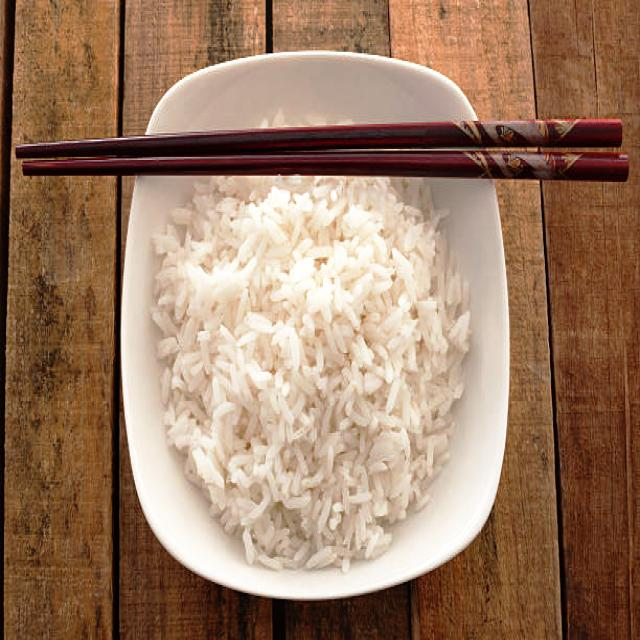rice: (148, 110, 474, 569)
